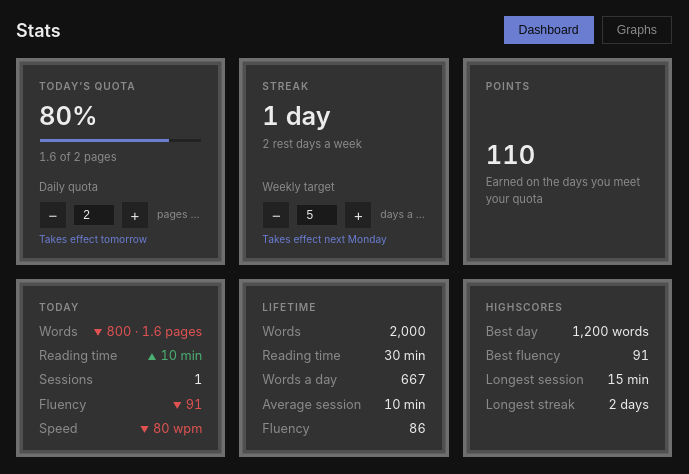
Scenario: Stats screen — Graphs tab, metric tabs › offers a running total for the sums and switches the chart with it
Click the button "Graphs" at (637, 30), box [602, 16, 672, 44]
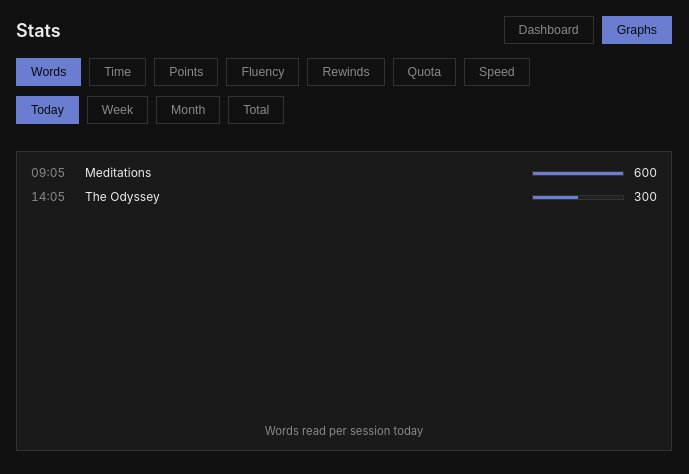
Click the button "Week" at (117, 110), box [87, 96, 148, 124]
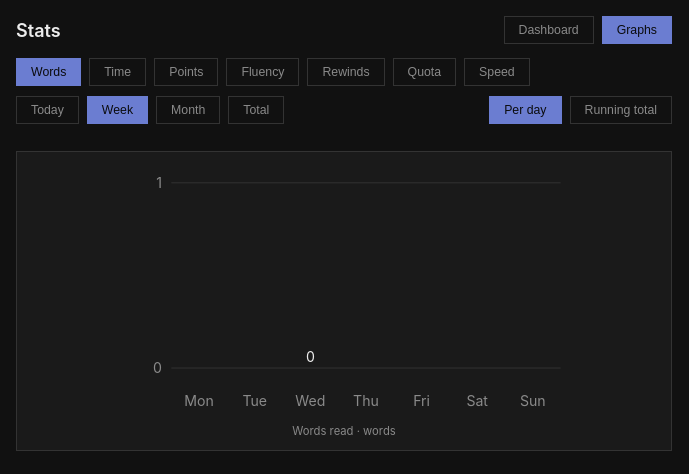
Click the button "Running total" at (621, 110), box [570, 96, 672, 124]
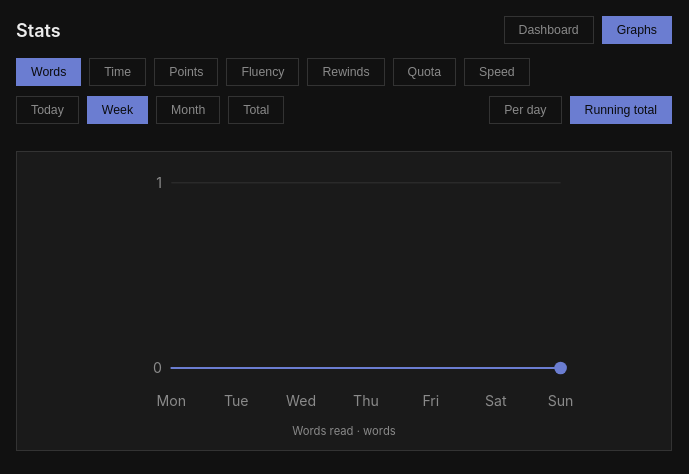
expect the picture "0 1 Mon Tue Wed Thu Fri Sat Sun" has attribute aria-label="Words read — week, running total": met, box [31, 164, 657, 415]
Click the button "Fluency" at (263, 72), box [226, 58, 300, 86]
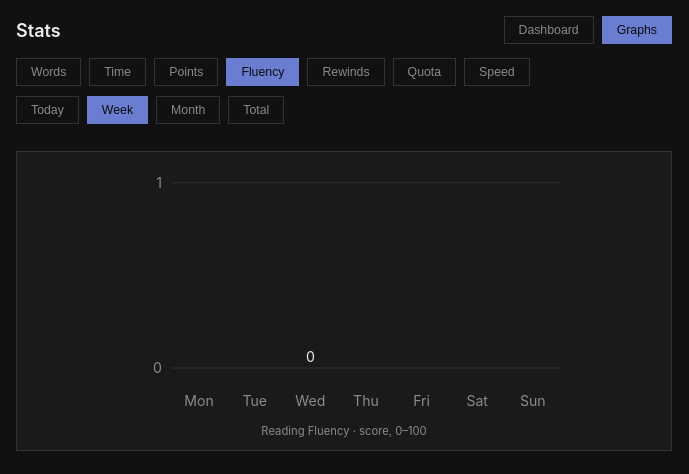
expect the element "Series" is gone: met
